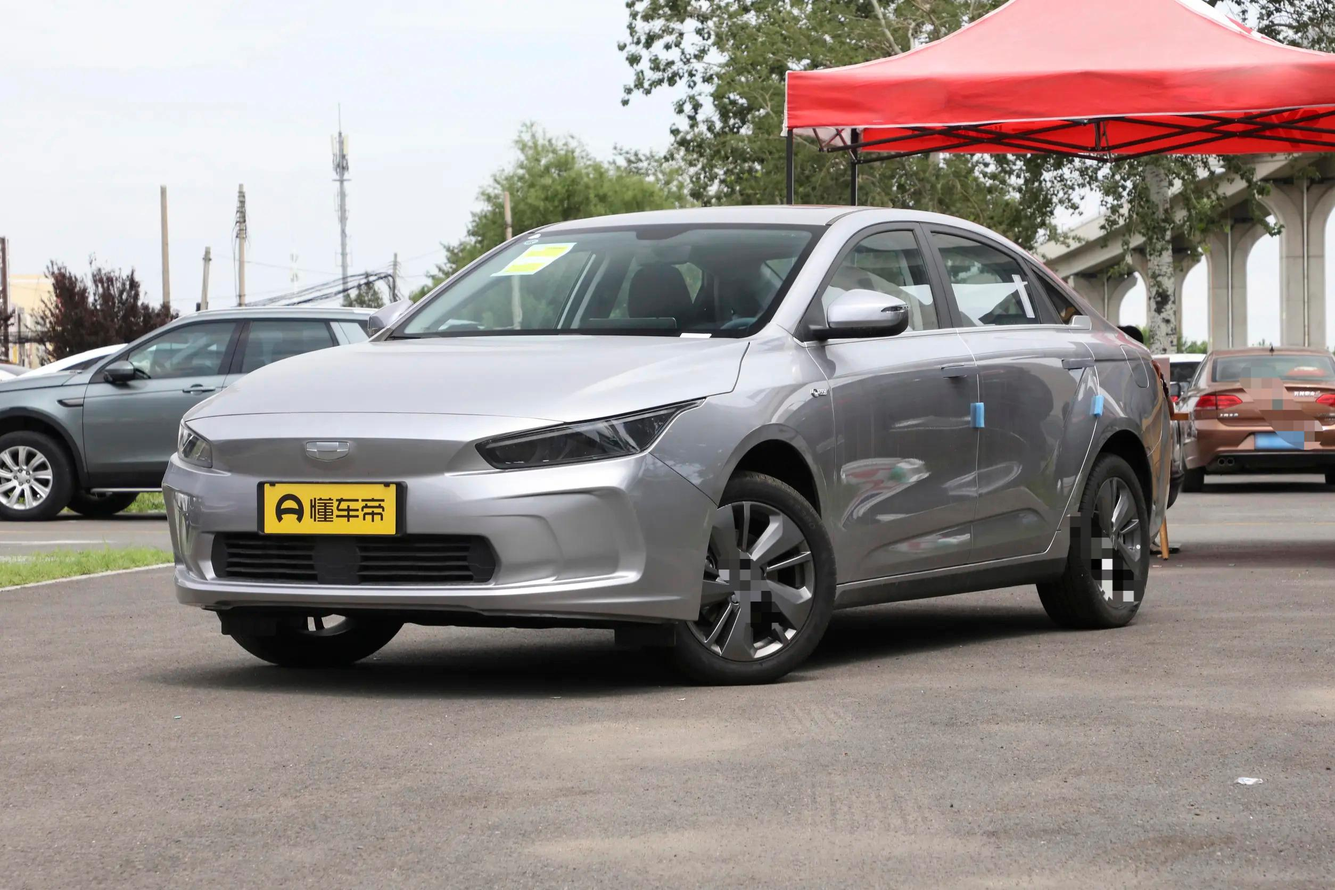GEOMETRY: (307, 442, 349, 460)
